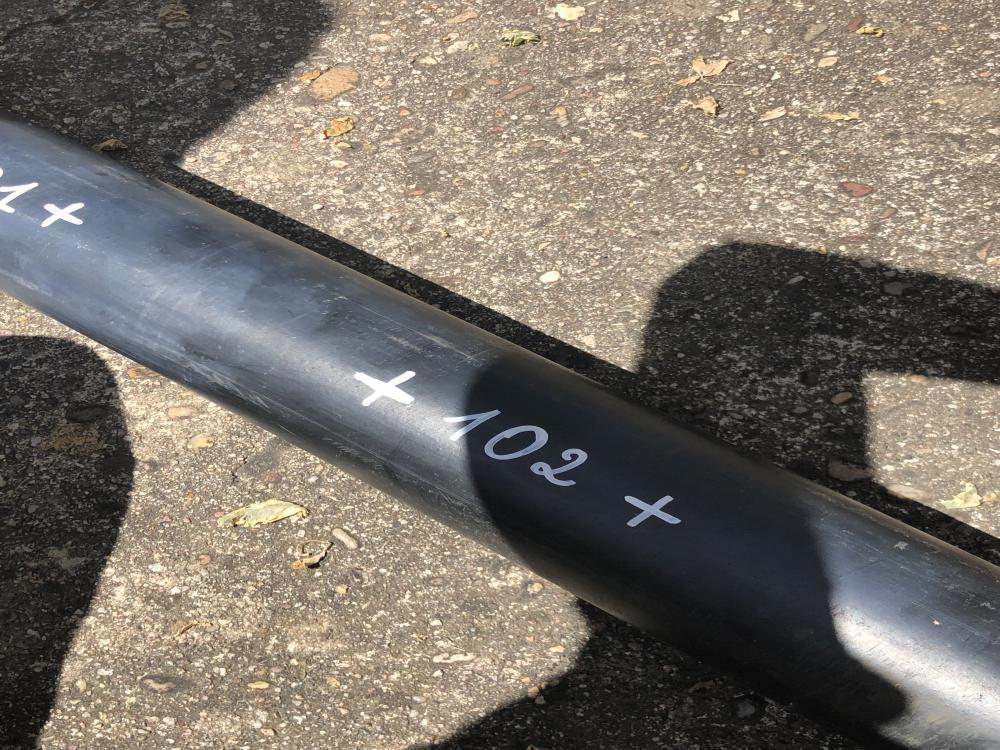+: (352, 370, 420, 406), (622, 493, 684, 528), (40, 202, 86, 229)
0: (483, 424, 550, 460)
1: (442, 409, 504, 441), (0, 181, 40, 214)
2: (529, 447, 590, 487)
